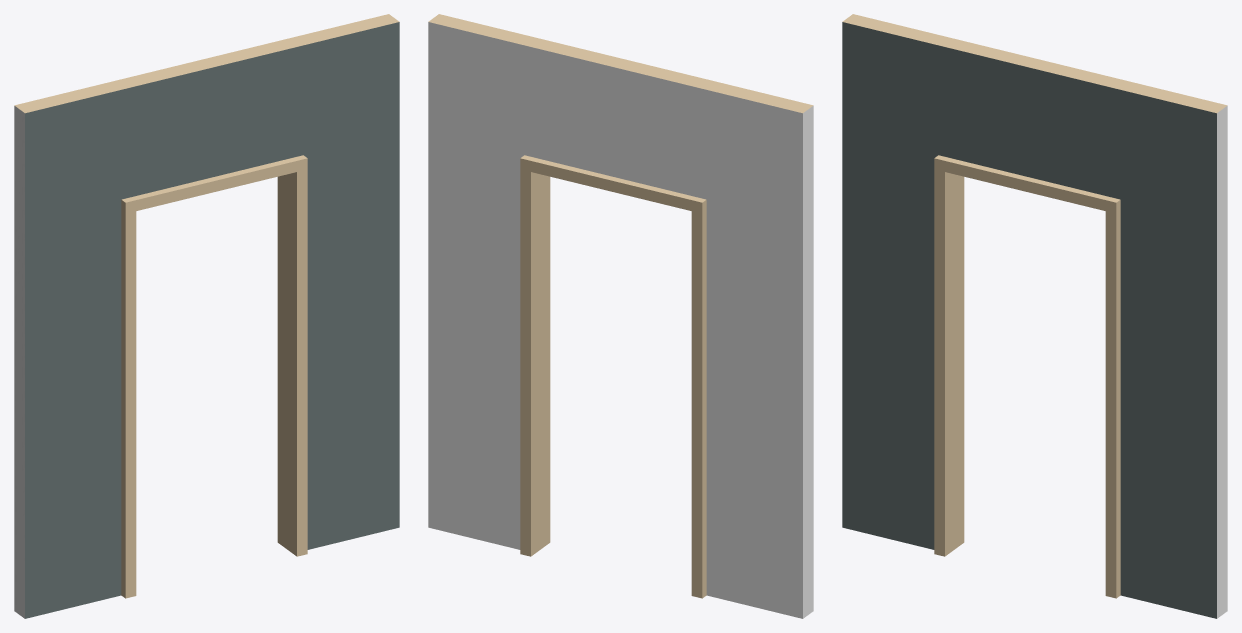
The model's file is wallDoorway.glb.
3 renders of one model, left to right at view 1: azimuth 30°, elevation 25°; view 2: azimuth 150°, elevation 25°; view 3: azimuth 330°, elevation 25°, orthographic.
Visible parts, largest first — view 1: wallDoorway; view 2: wallDoorway; view 3: wallDoorway.
Boxes of the visible parts, x1=… form: wallDoorway: x1=14, y1=14, x2=399, y2=618; wallDoorway: x1=428, y1=14, x2=813, y2=618; wallDoorway: x1=842, y1=14, x2=1227, y2=618.
Bounding box in the file's own units: 10 × 12.9 × 0.891.
